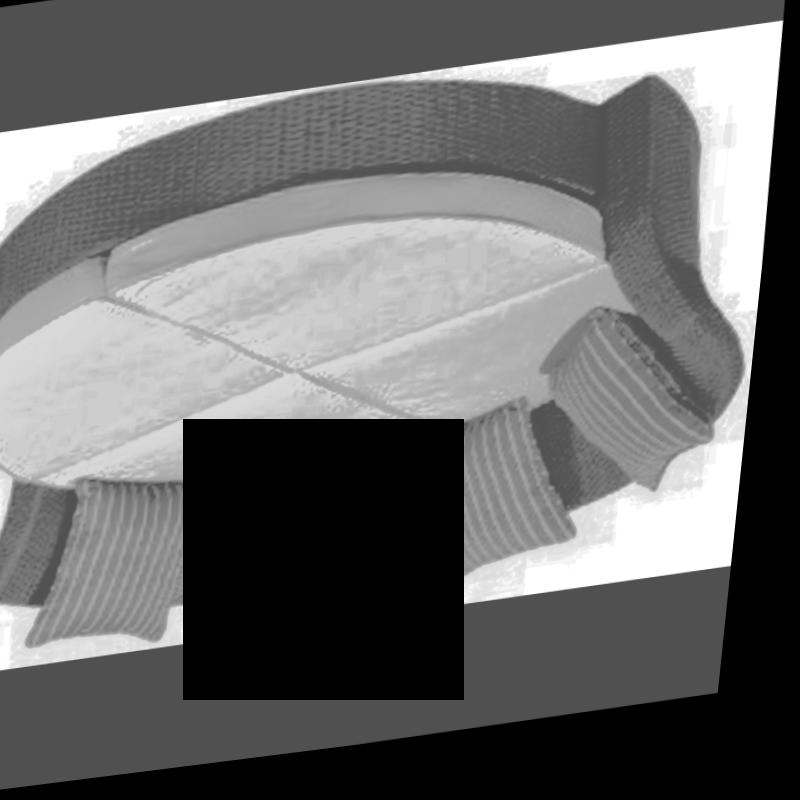pillow: (19, 473, 242, 671), (544, 308, 734, 525), (394, 411, 603, 600), (227, 463, 397, 636)
